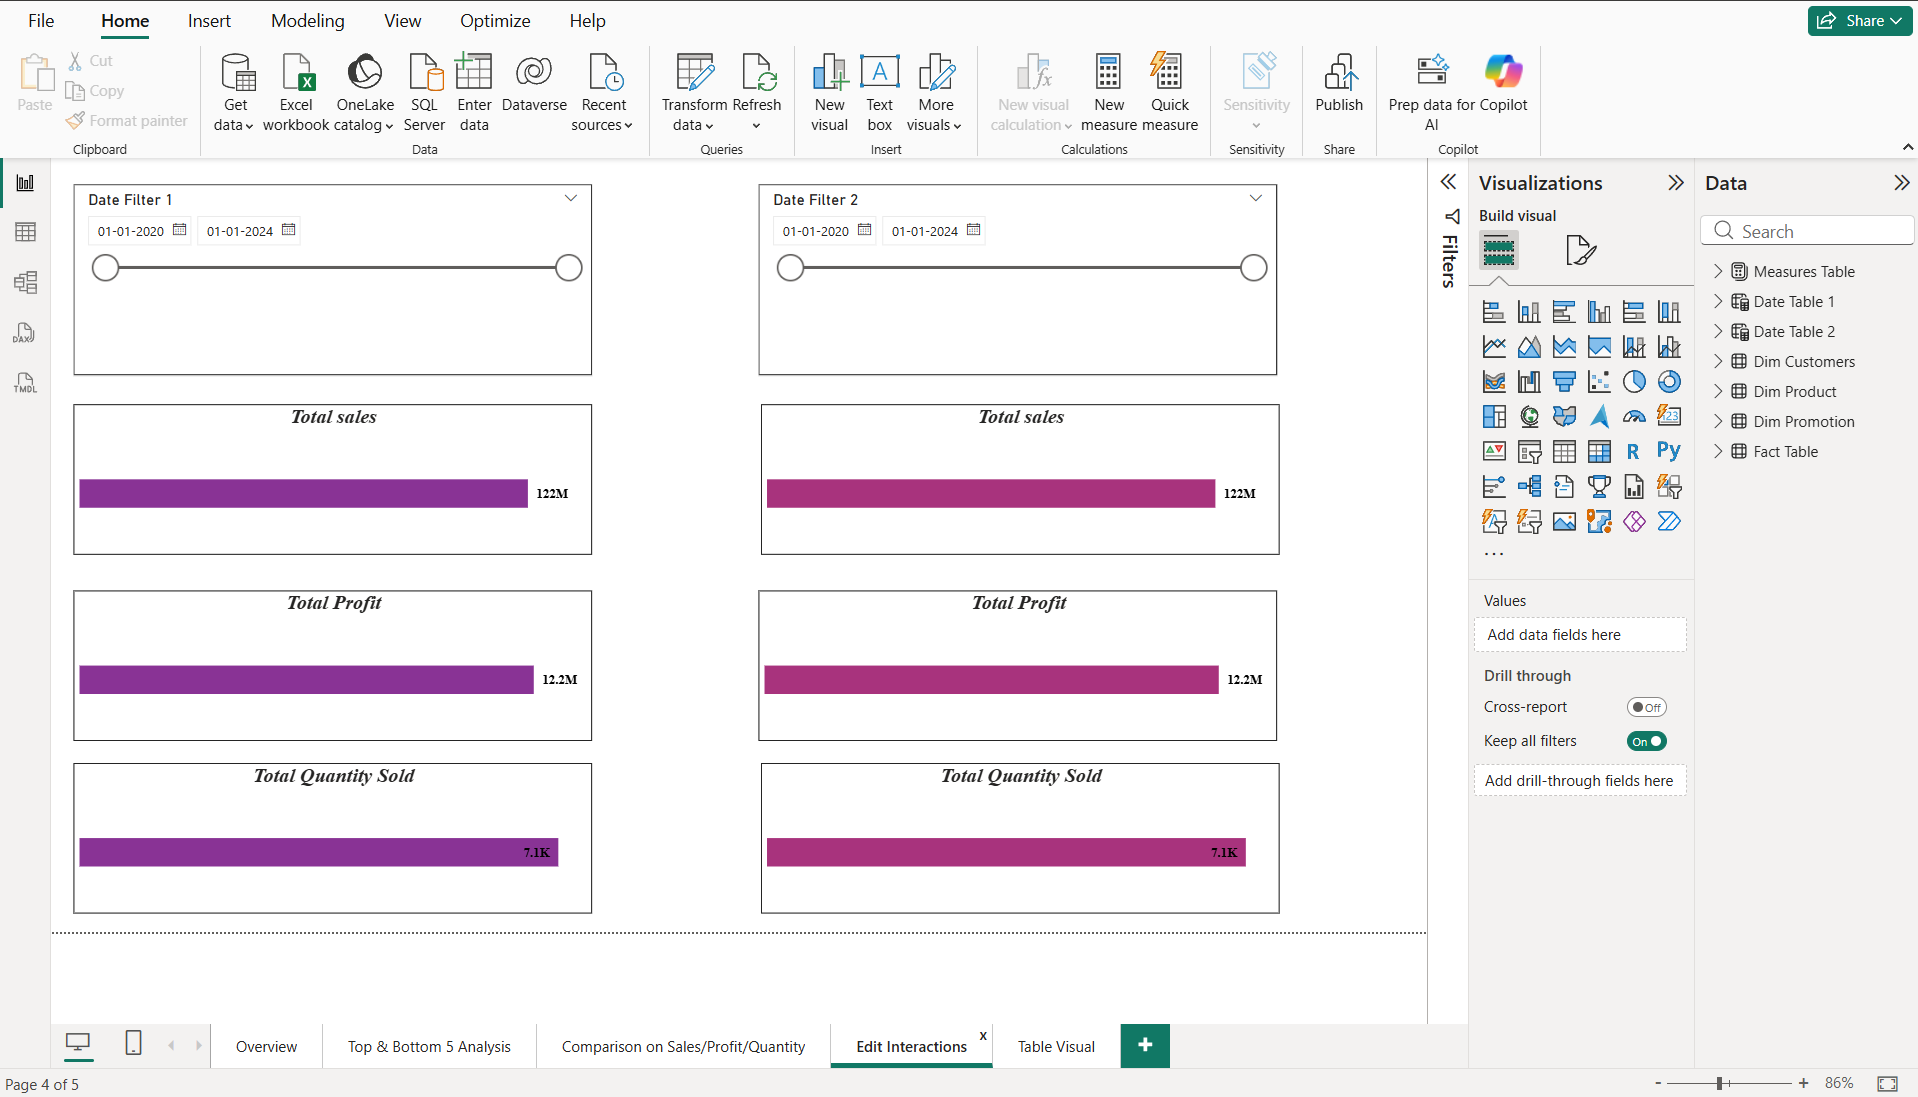

This screenshot's page, from the dashboard's own definition file:
{"tool":"powerbi","page":{"name":"Edit Interactions","canvas":[1280,720],"ordinal":3},"visuals":[{"type":"slicer","fields":{"Values":["Fact Table.Date (dd/mm/yyyy)"]},"box":[21.1,24.4,482.2,177.8],"z":0},{"type":"slicer","fields":{"Values":["Fact Table.Date (dd/mm/yyyy)"]},"box":[657.8,24.4,482.2,177.8],"z":1},{"type":"barChart","title":"Total sales","fields":{"Y":["Sum(Fact Table.Net Sales)"]},"box":[21.1,228.9,482.2,140],"z":2},{"type":"barChart","title":"Total Profit","fields":{"Y":["Sum(Fact Table.Profit)"]},"box":[21.1,402.2,482.2,140],"z":3},{"type":"barChart","title":"Total Quantity Sold","fields":{"Y":["Sum(Fact Table.Units Sold)"]},"box":[21.1,563.3,482.2,140],"z":4},{"type":"barChart","title":"Total sales","fields":{"Y":["Sum(Fact Table.Net Sales)"]},"box":[660,228.9,482.2,140],"z":5},{"type":"barChart","title":"Total Profit","fields":{"Y":["Sum(Fact Table.Profit)"]},"box":[657.8,402.2,482.2,140],"z":6},{"type":"barChart","title":"Total Quantity Sold","fields":{"Y":["Sum(Fact Table.Units Sold)"]},"box":[660,563.3,482.2,140],"z":7}]}

Visuals, with their boxes on the page's 1280x720 design canvas (x1, y1, x2, y2). These are canvas units, not pixel positions in the 1918x1097 screenshot, which may show the page scaled, cropped or inside an application window:
slicer - Fact Table.Date (dd/mm/yyyy): box=[21, 24, 503, 202]
slicer - Fact Table.Date (dd/mm/yyyy): box=[658, 24, 1140, 202]
"Total sales" barChart: box=[21, 229, 503, 369]
"Total Profit" barChart: box=[21, 402, 503, 542]
"Total Quantity Sold" barChart: box=[21, 563, 503, 703]
"Total sales" barChart: box=[660, 229, 1142, 369]
"Total Profit" barChart: box=[658, 402, 1140, 542]
"Total Quantity Sold" barChart: box=[660, 563, 1142, 703]
